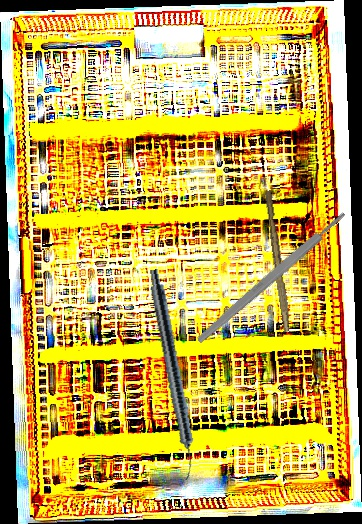Handpiece: (142, 268, 203, 481)
Scalpel Handle: (195, 210, 348, 345), (261, 190, 295, 332)
